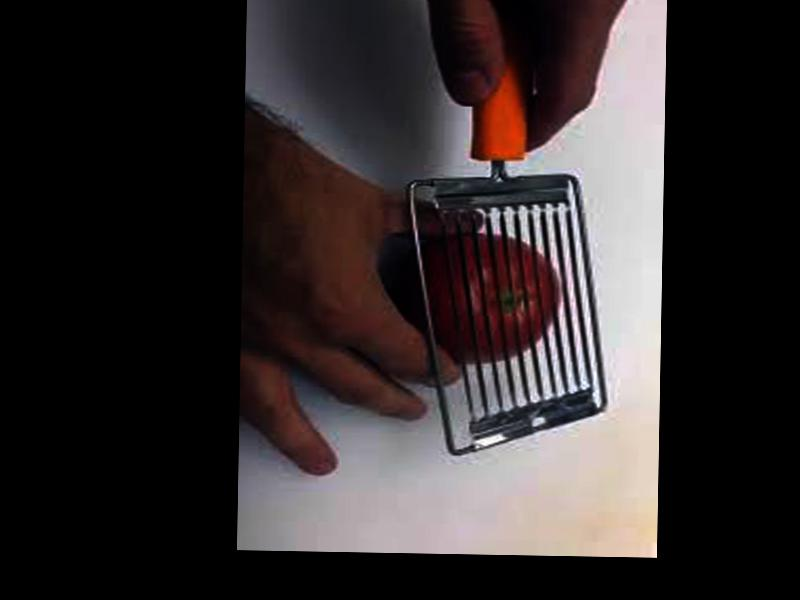Tomato: (397, 229, 559, 361)
